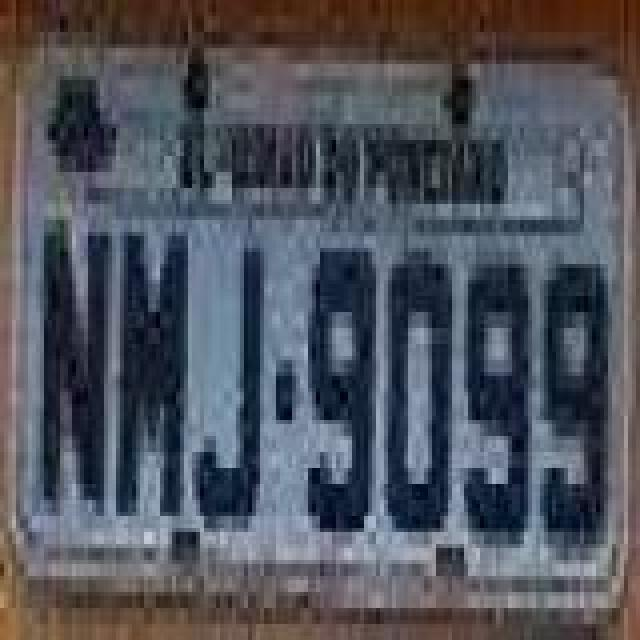9: (308, 244, 380, 540), (464, 260, 536, 556), (540, 260, 612, 556)
J: (192, 244, 264, 540)
M: (116, 228, 188, 524)
N: (36, 220, 108, 516)
O: (384, 252, 456, 548)
